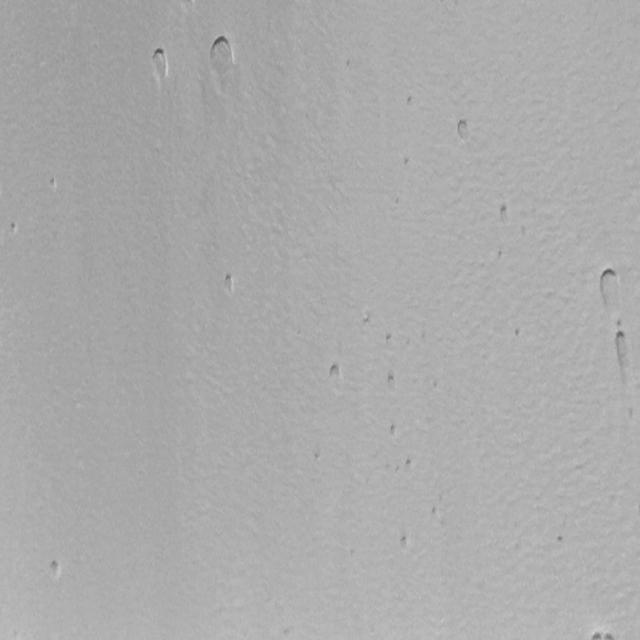pin holes: (204, 31, 240, 82), (608, 331, 638, 390), (594, 266, 623, 311), (148, 46, 172, 81), (219, 271, 240, 299), (454, 116, 476, 142), (44, 558, 65, 584), (325, 360, 345, 387), (396, 533, 416, 557), (384, 371, 403, 395), (498, 202, 512, 223), (388, 420, 404, 438), (591, 628, 616, 639), (402, 457, 417, 473), (48, 176, 61, 194), (404, 94, 417, 110), (383, 332, 396, 347), (10, 222, 22, 238), (430, 504, 441, 521), (314, 448, 325, 464), (556, 535, 566, 548), (515, 324, 522, 340), (404, 156, 412, 167), (497, 246, 503, 260)
